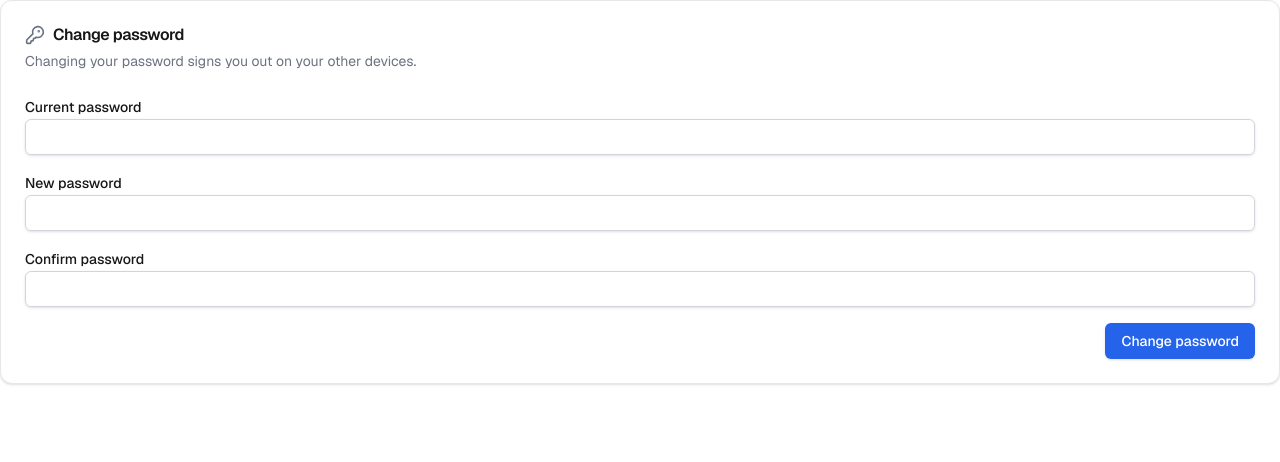
Test: ChangePasswordCard › changes the password and confirms it
Type "old-password" into the password field labelled "Current password". click: (640, 137)
box: left=25, top=119, right=1255, bottom=155
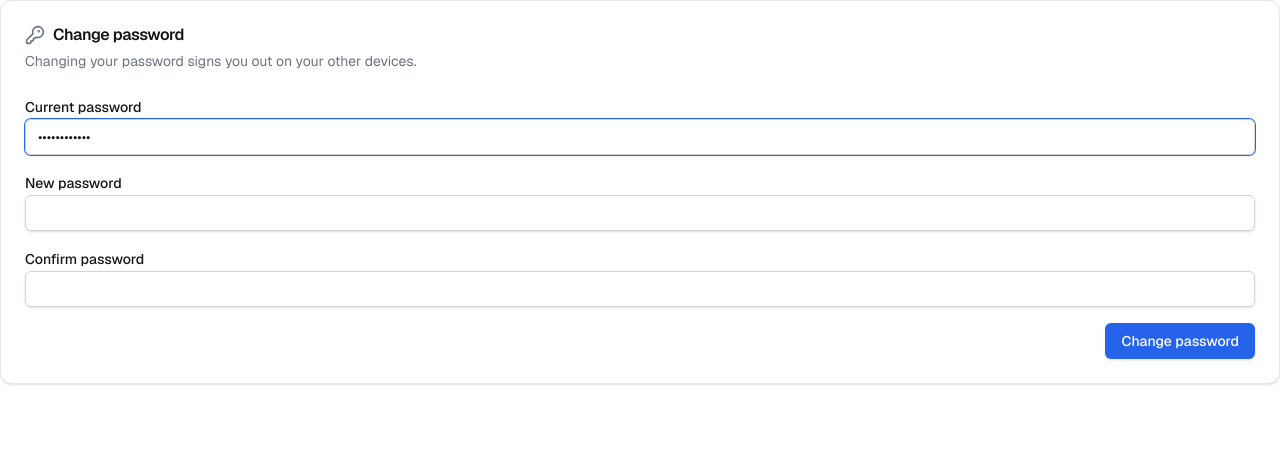
Type "new-password" into the password field labelled "New password". click: (640, 213)
box: left=25, top=195, right=1255, bottom=231
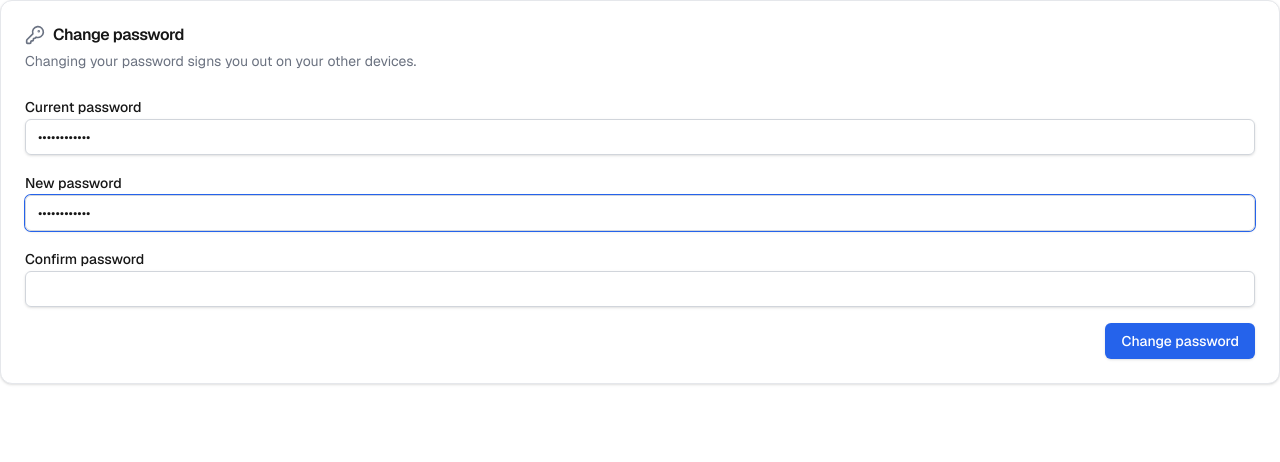
Type "new-password" into the password field labelled "Confirm password". click: (640, 289)
box: left=25, top=271, right=1255, bottom=307
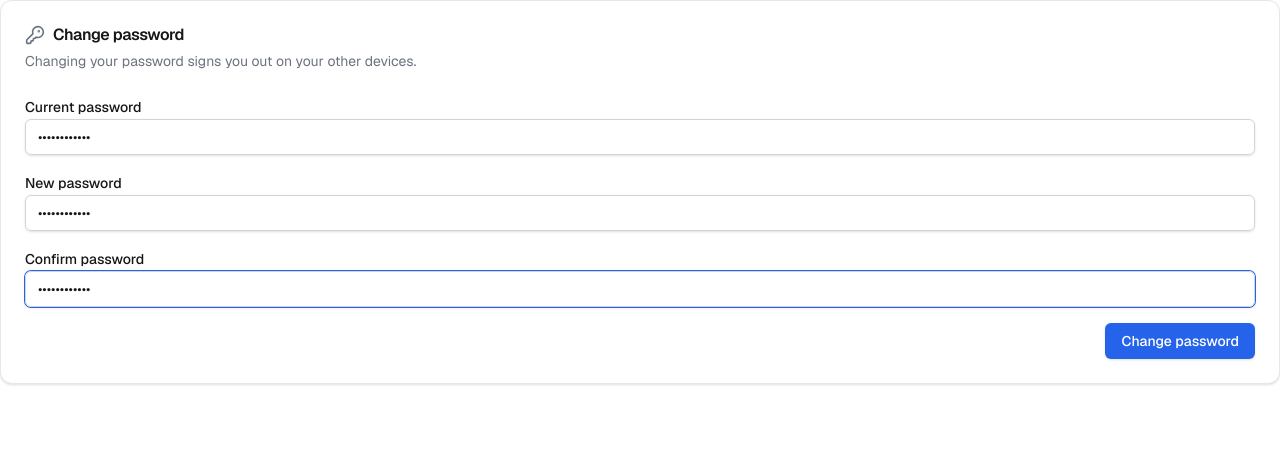
Click the button "Change password". click: (1180, 341)
box: left=1106, top=323, right=1255, bottom=359
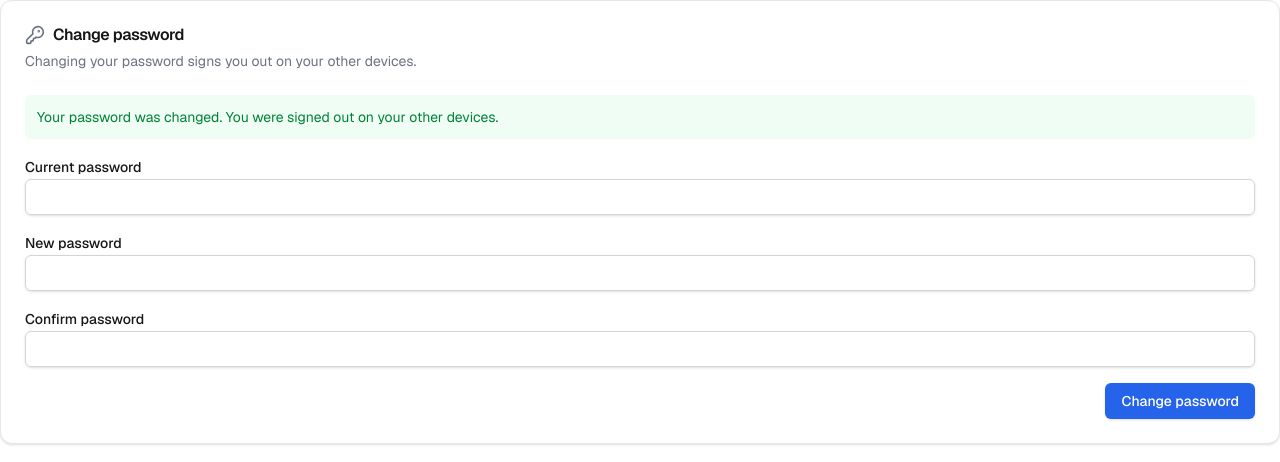
Check: the message shows "Your password was changed", box left=37, top=108, right=498, bottom=126
Check: the password field labelled "Current password" is empty, box left=25, top=179, right=1255, bottom=215
